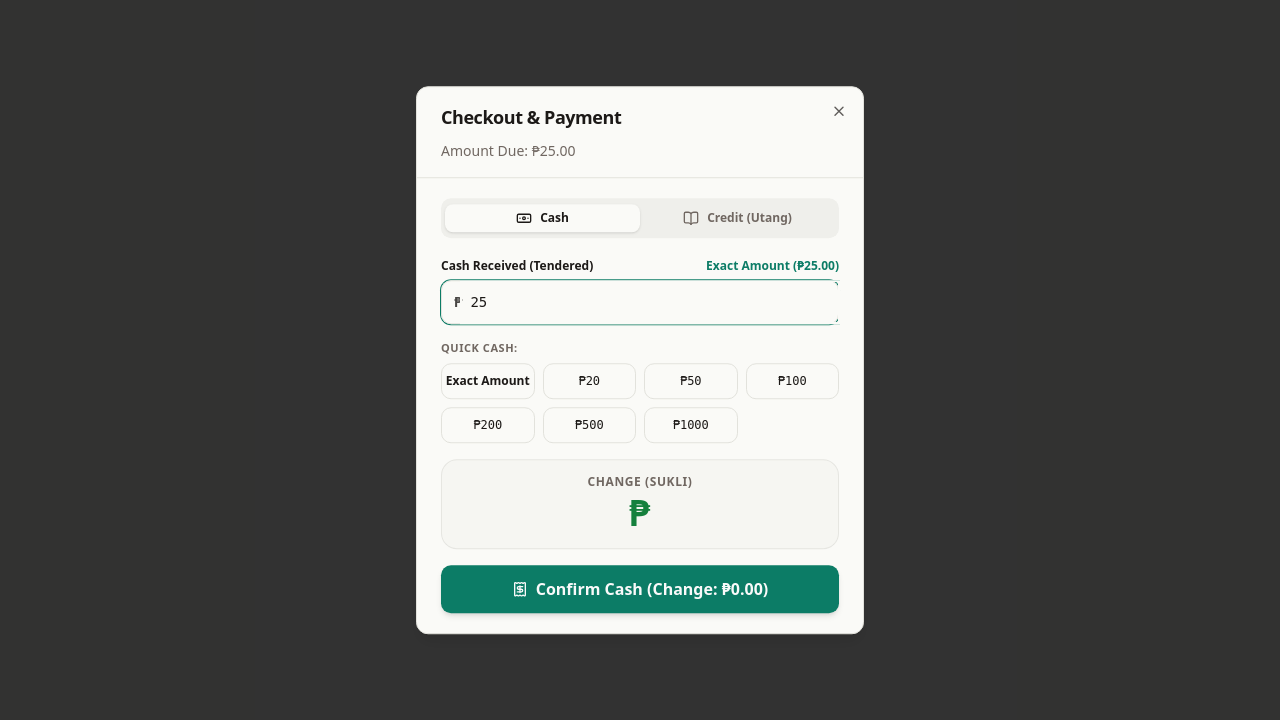
End-to-End User Flows Against Mock Database › 3. Utang sale with NEW customer created inline from mini form
Click the tab "Credit (Utang)". click: (738, 218)
box: left=640, top=204, right=835, bottom=232
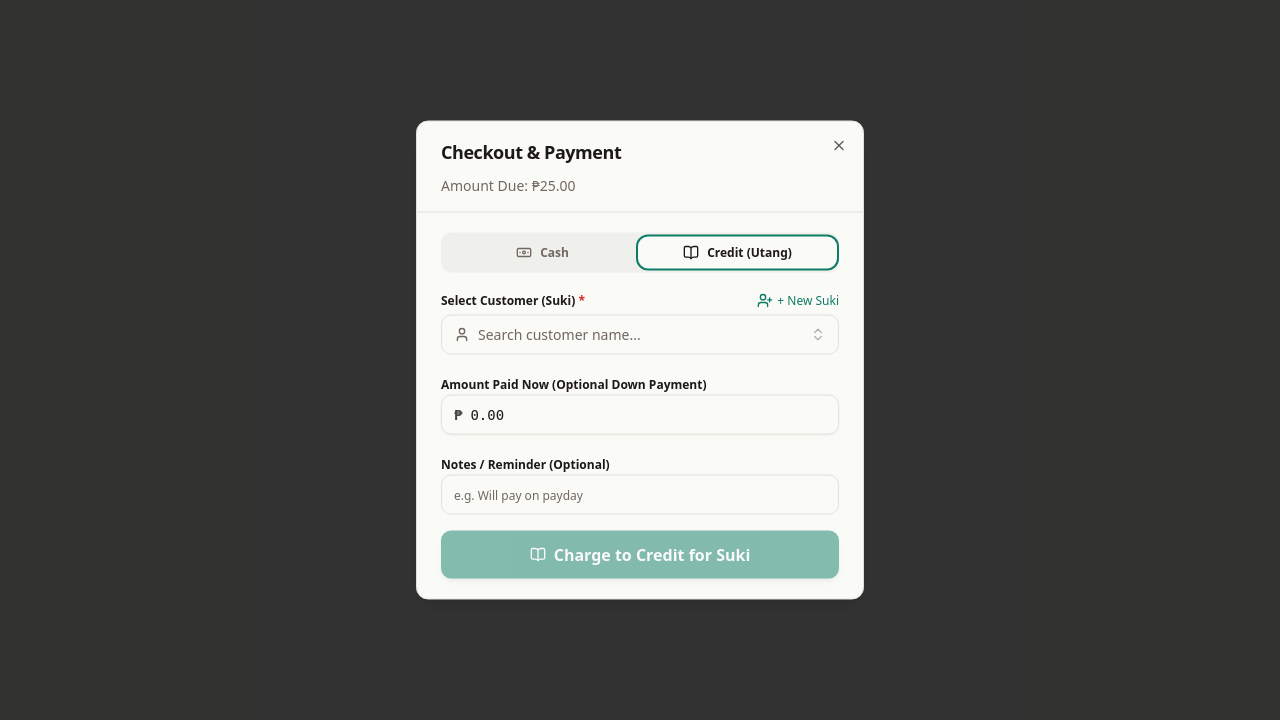
Click the button "+ New Suki". click: (798, 300)
box: left=757, top=292, right=839, bottom=308
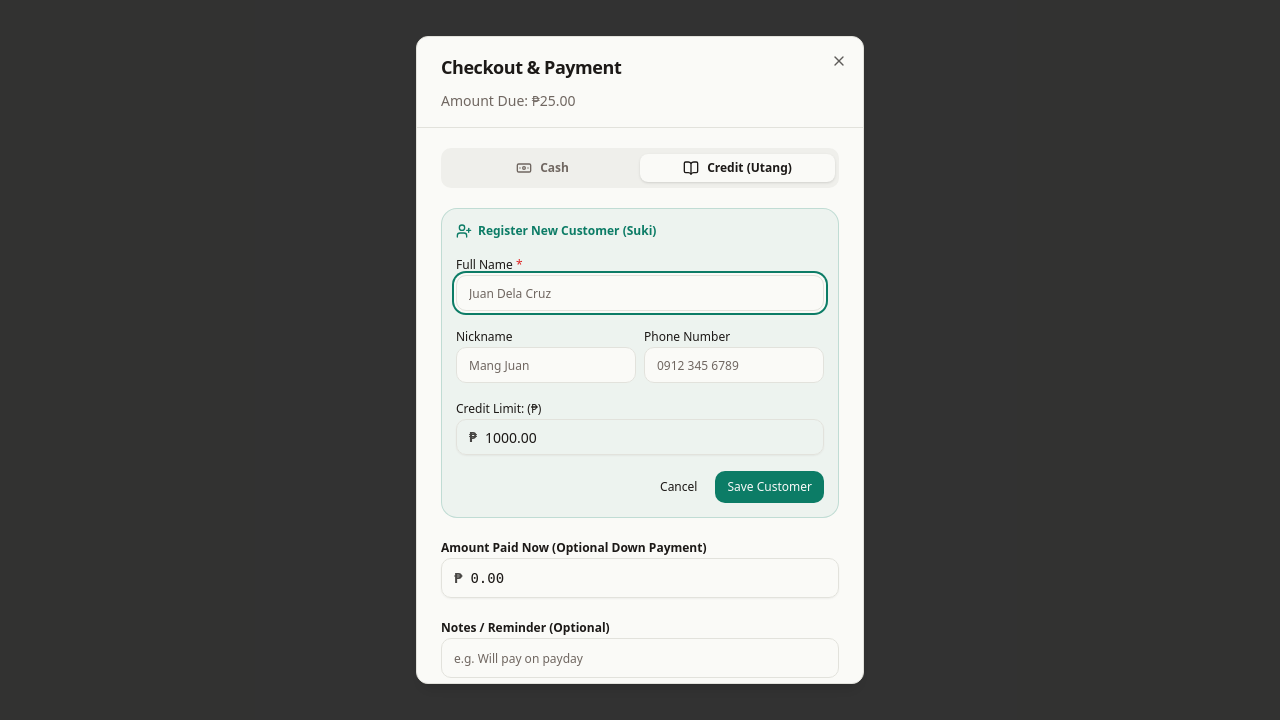
Type "Bagong Inline Suki" into the field with placeholder "Juan Dela Cruz". click: (640, 293)
box: left=456, top=275, right=824, bottom=311
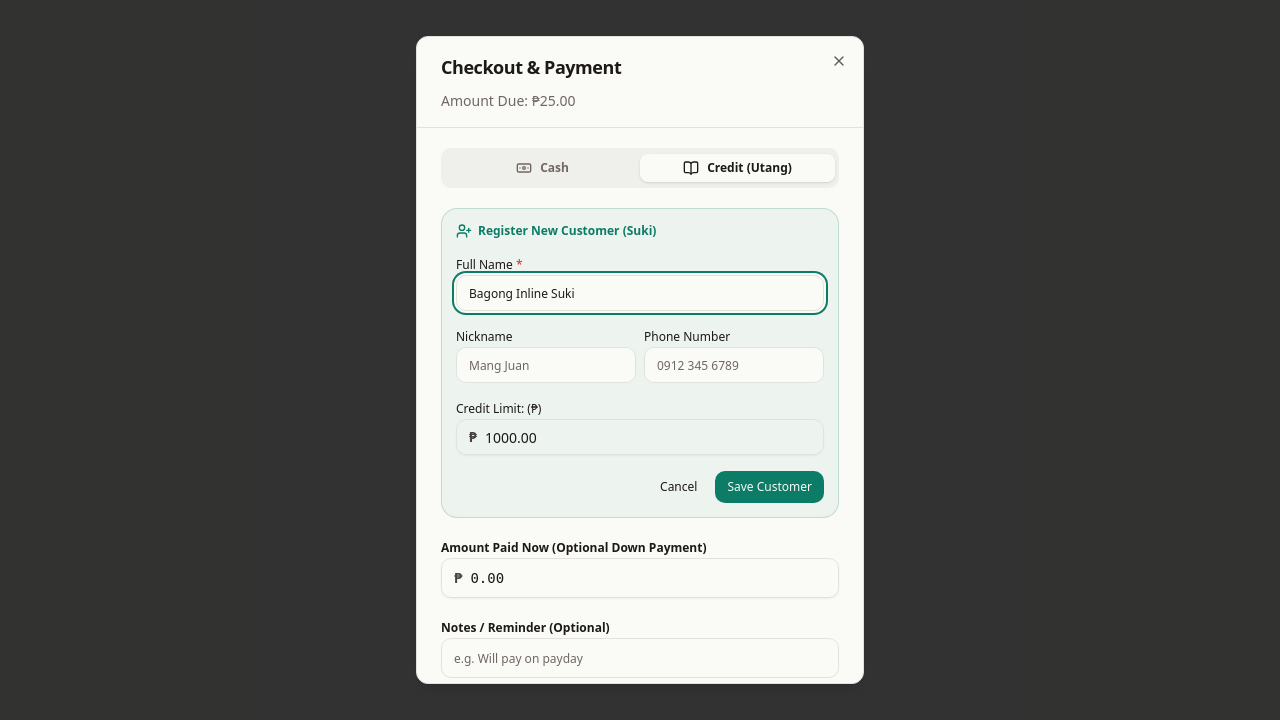
Click the button "Save Customer". click: (770, 487)
box: left=715, top=471, right=824, bottom=503
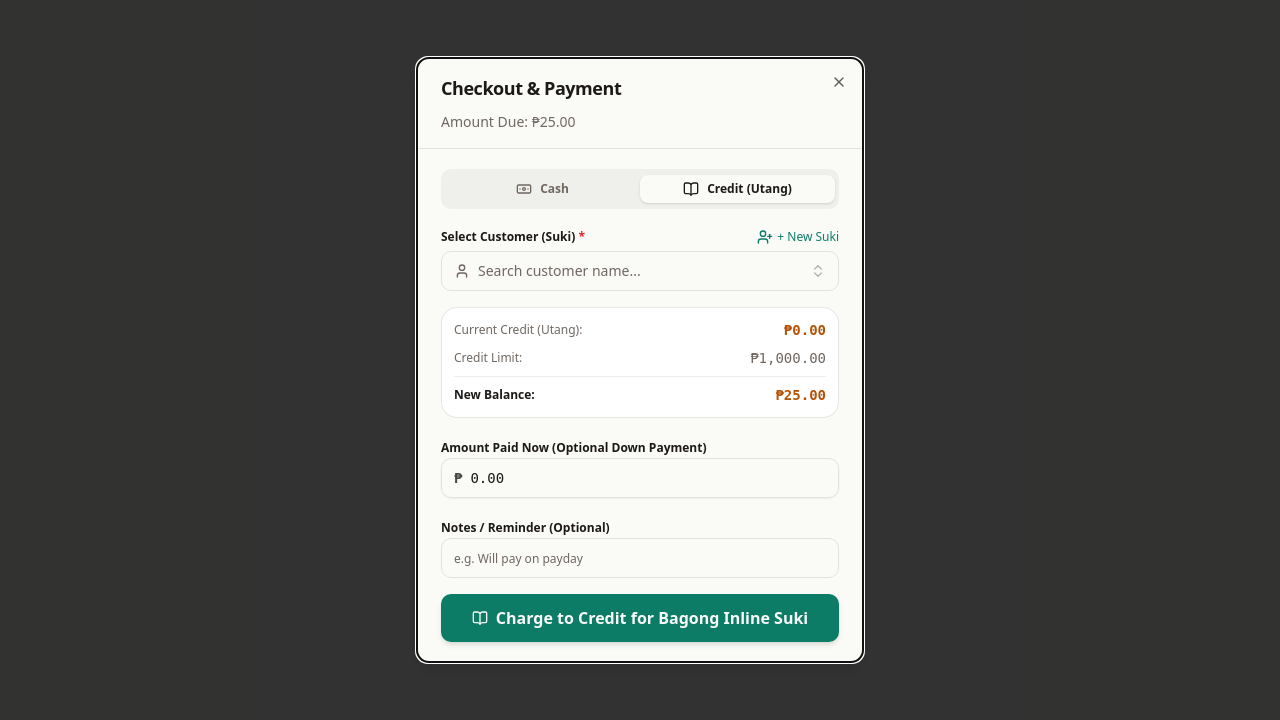
Click the button "Charge to Credit for Bagong Inline Suki". click: (640, 618)
box: left=441, top=594, right=839, bottom=642
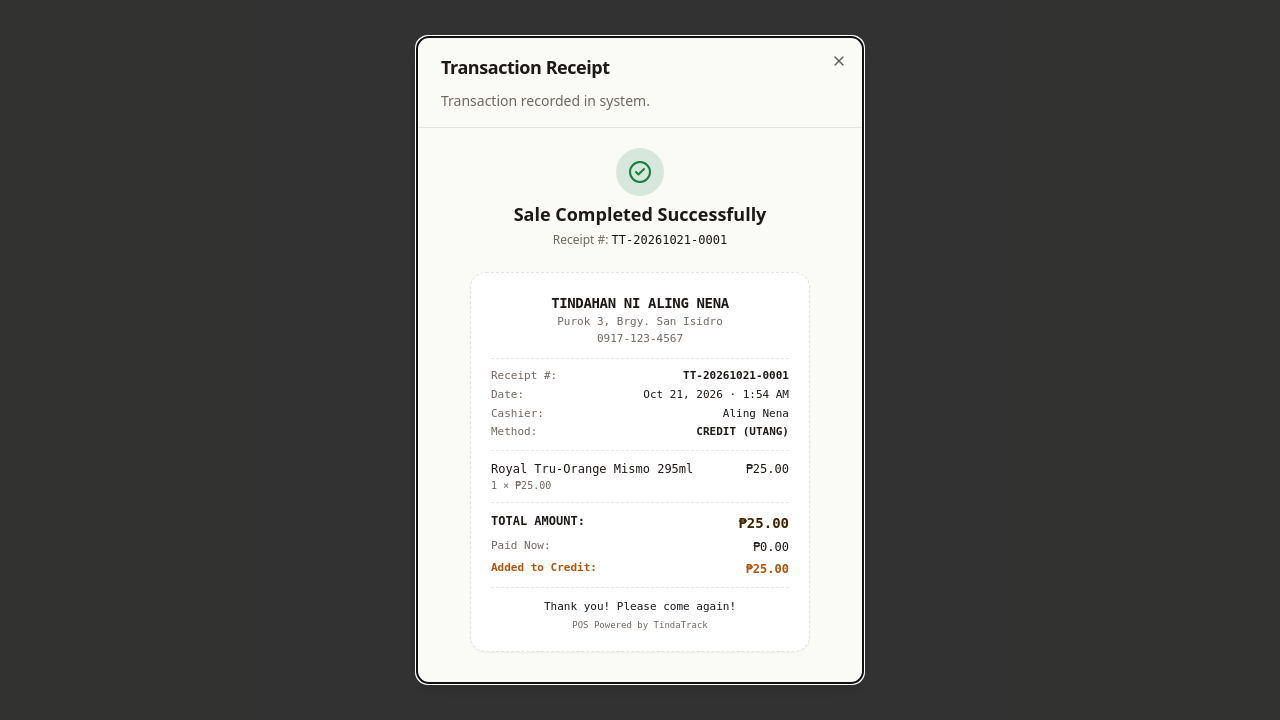
Now the heading "Transaction Receipt" is shown, box left=441, top=55, right=610, bottom=79
